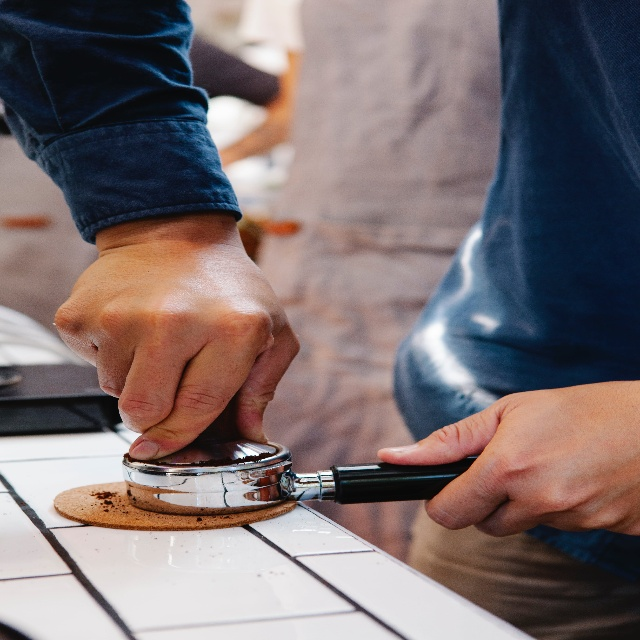Sin_guantes: (53, 230, 301, 462), (376, 380, 640, 538)
